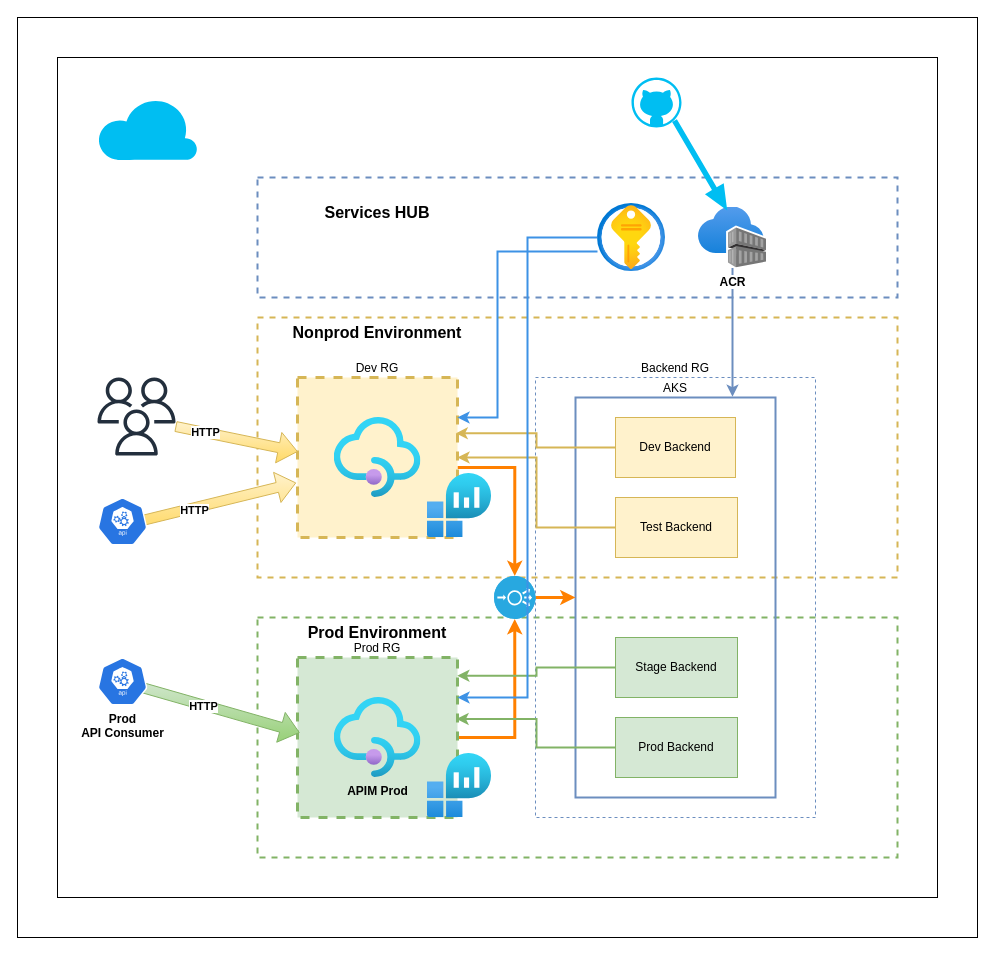
Image size: 995x955. Some labels were removed from this diagram. Here are the shapes that lost their labels. From the top down, the centre of each, then its label:
the point at 656,102: GitHub DevOps
the point at 147,128: Azure Cloud
the point at 631,237: AKV
the point at 136,416: API Producers (Dev / QA / BA)
the point at 377,457: APIM Dev
the point at 122,521: NonProd API Consumer
